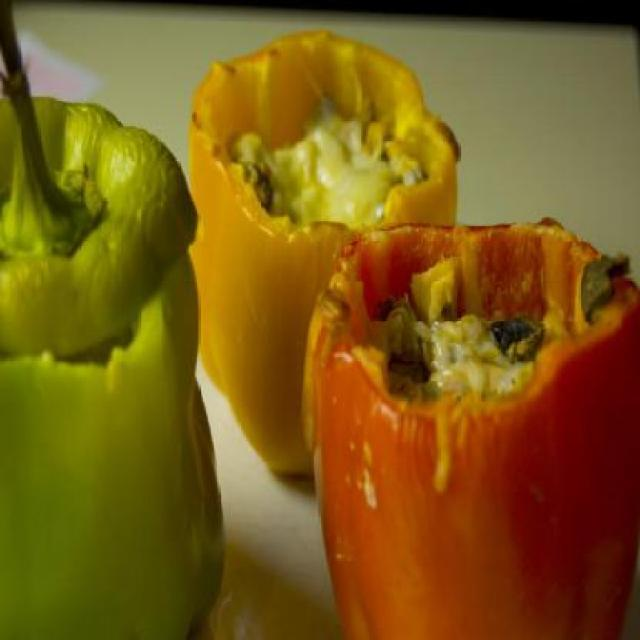Bell pepper: (0, 0, 226, 638), (298, 219, 640, 639), (189, 35, 460, 477)
